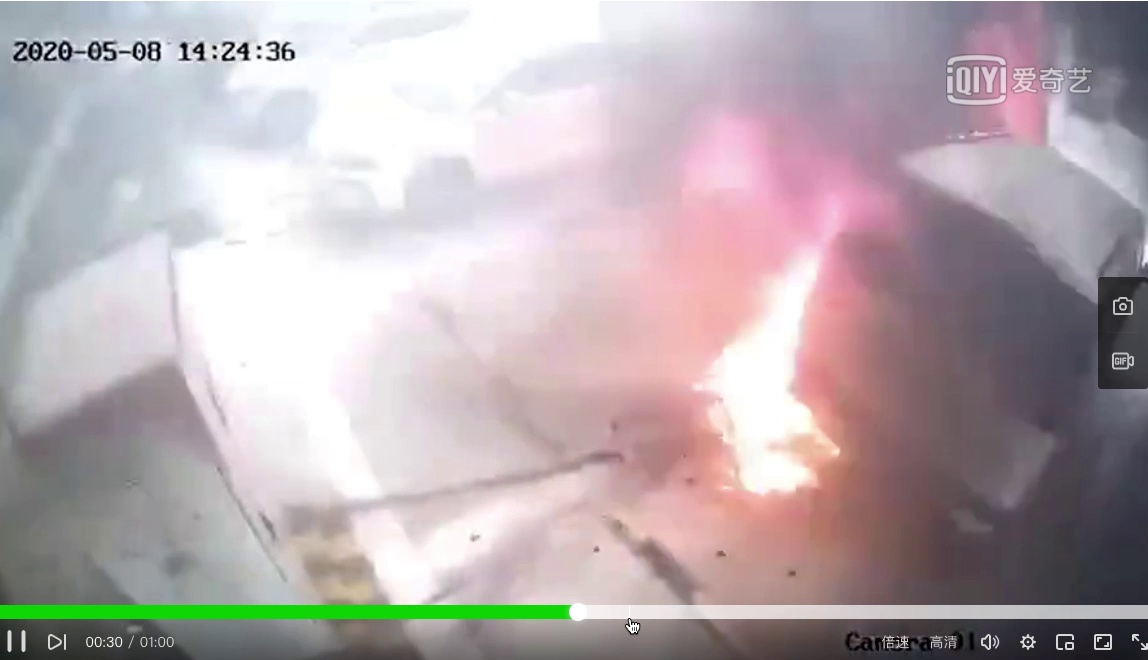fire: (702, 225, 846, 508)
